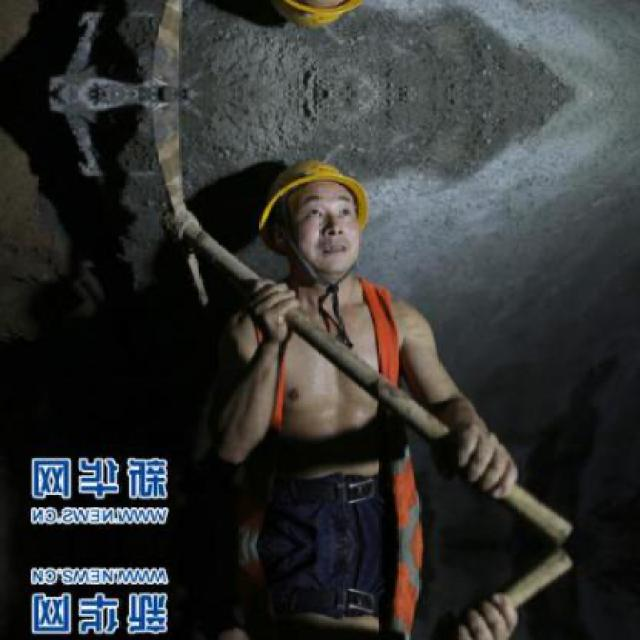con casco: (254, 164, 372, 264)
